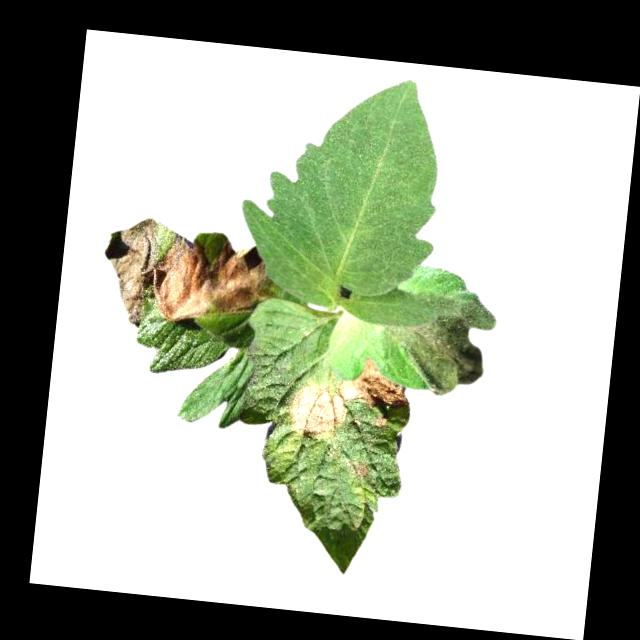Late_blight: (96, 212, 280, 340), (373, 285, 498, 401), (286, 351, 412, 447), (349, 466, 368, 480)
